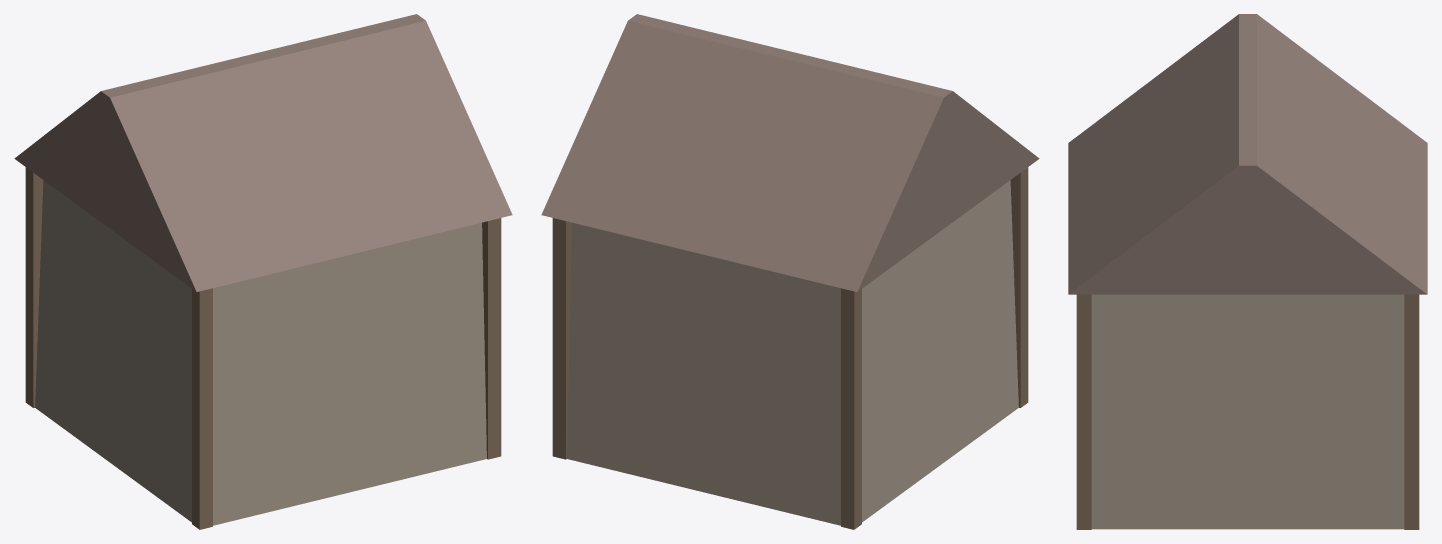
File: barracks.glb
The picture shows the model from 3 angles, left to right: view 1: azimuth 30°, elevation 25°; view 2: azimuth 150°, elevation 25°; view 3: azimuth 270°, elevation 25°; orthographic projection.
Visible parts, largest first — view 1: barracks; view 2: barracks; view 3: barracks.
Boxes of the visible parts, box(x1,y1,x2,y2) form: barracks: box(14, 14, 512, 529); barracks: box(541, 14, 1039, 529); barracks: box(1068, 14, 1427, 529).
Size of the model in its own units: 3.82 by 4.31 by 3.82.
